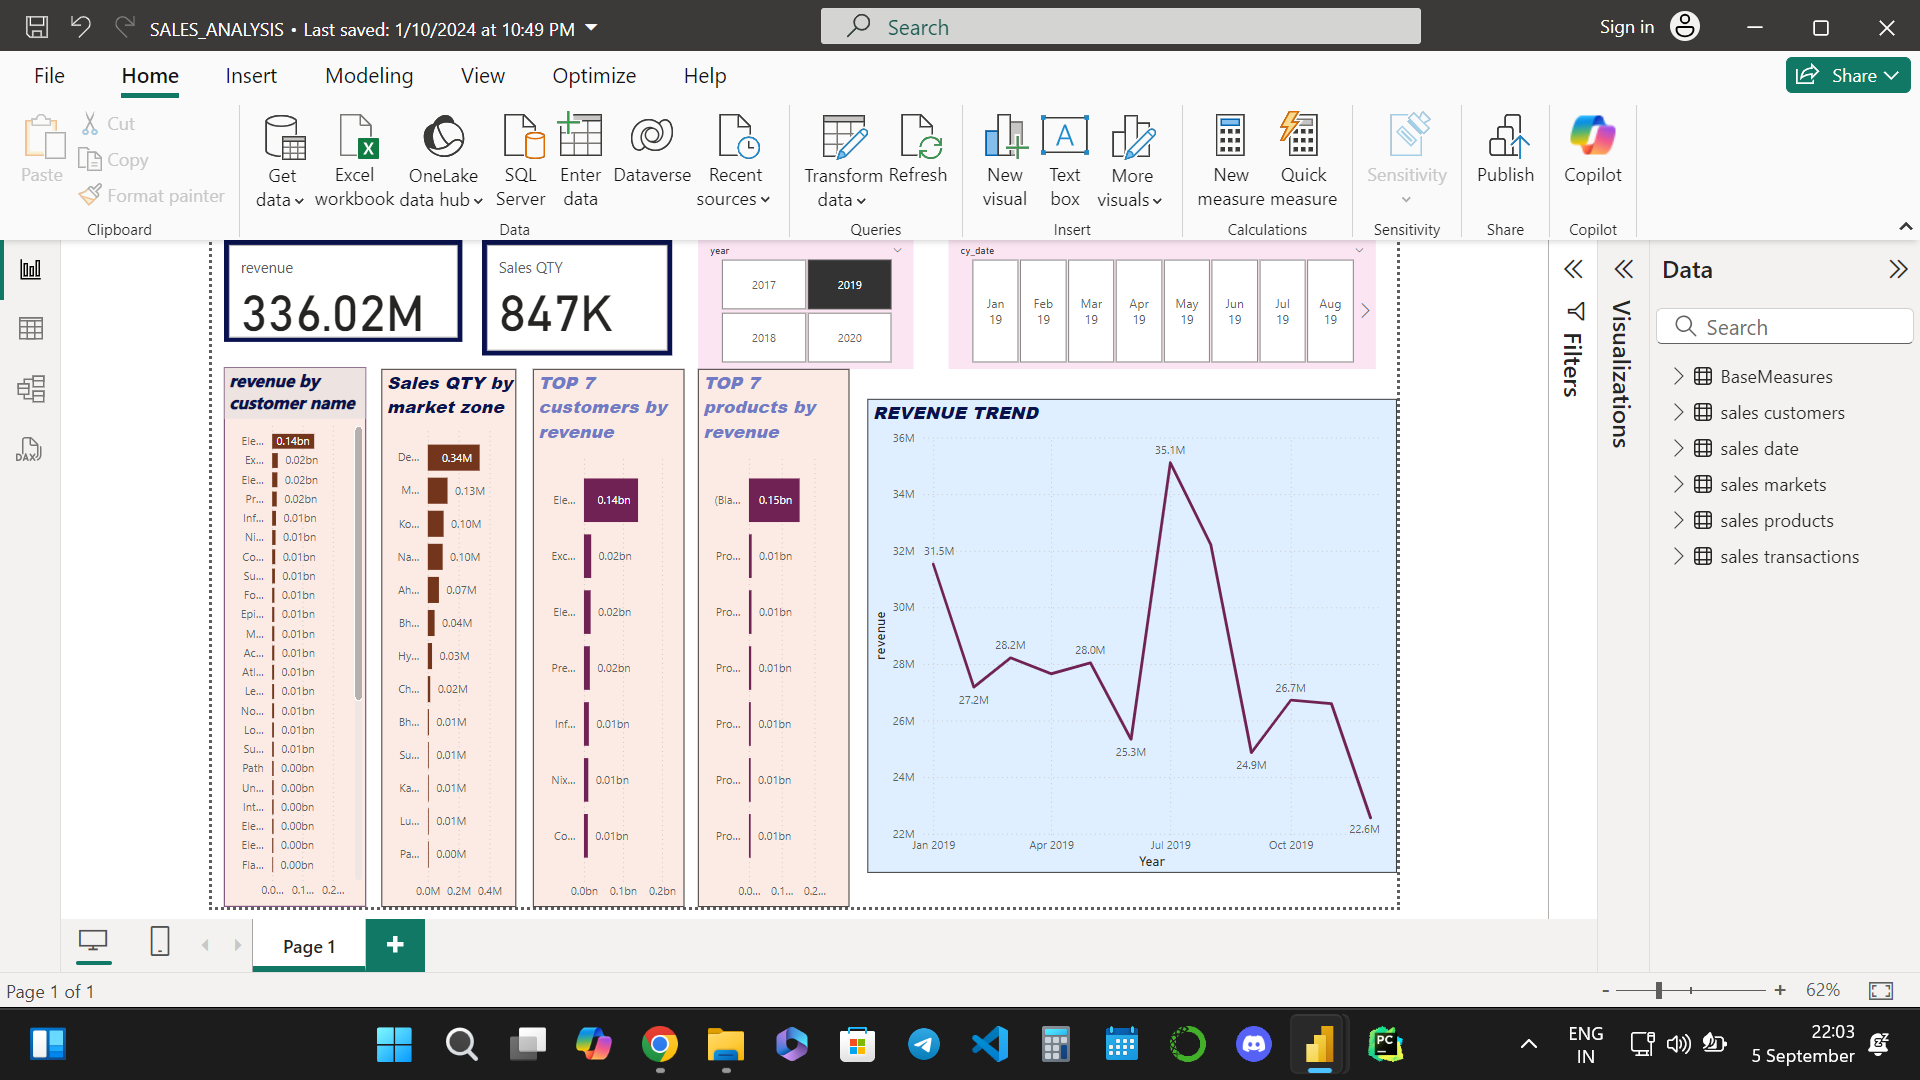

This screenshot's page, from the dashboard's own definition file:
{"tool":"powerbi","page":{"name":"Page 1","canvas":[1280,720],"ordinal":0},"visuals":[{"type":"cardVisual","fields":{"Data":["BaseMeasures.revenue"]},"box":[12.9,0,257.3,110],"z":0},{"type":"cardVisual","fields":{"Data":["BaseMeasures.Sales QTY"]},"box":[291.2,0,205.5,124.6],"z":1000},{"type":"barChart","title":"revenue by customer name","fields":{"Y":["BaseMeasures.revenue"],"Category":["sales customers.custmer_name"]},"box":[13.3,138.3,153.3,581.7],"z":2000},{"type":"slicer","fields":{"Values":["sales date.year"]},"box":[524.2,0,233,139.1],"z":3000},{"type":"slicer","fields":{"Values":["sales date.cy_date"]},"box":[794.4,0,461.1,139.1],"z":4000},{"type":"barChart","title":"Sales QTY by market zone","fields":{"Y":["BaseMeasures.Sales QTY"],"Category":["sales markets.markets_name"]},"box":[182.8,139.1,145.6,580.9],"z":5000},{"type":"barChart","title":"TOP 7 customers by revenue","fields":{"Y":["BaseMeasures.revenue"],"Category":["sales customers.custmer_name"]},"box":[346.2,139.1,163.4,580.9],"z":6000},{"type":"barChart","title":"TOP 7 products by revenue","fields":{"Y":["BaseMeasures.revenue"],"Category":["sales products.product_code"]},"box":[524.2,139.1,163.4,580.9],"z":7000},{"type":"lineChart","title":"REVENUE TREND","fields":{"Y":["BaseMeasures.revenue"],"Category":["sales date.cy_date.Variation.Date Hierarchy.Year","sales date.cy_date.Variation.Date Hierarchy.Quarter","sales date.cy_date.Variation.Date Hierarchy.Month","sales date.cy_date.Variation.Date Hierarchy.Day"]},"box":[707.1,171.5,571.1,511.3],"z":8000}]}

Visuals, with their boxes on the page's 1280x720 design canvas (x1, y1, x2, y2). These are canvas units, not pixel positions in the 1920x1080 screenshot, which may show the page scaled, cropped or inside an application window:
cardVisual - BaseMeasures.revenue: [13,0,270,110]
cardVisual - BaseMeasures.Sales QTY: [291,0,497,125]
"revenue by customer name" barChart: [13,138,167,720]
slicer - sales date.year: [524,0,757,139]
slicer - sales date.cy_date: [794,0,1256,139]
"Sales QTY by market zone" barChart: [183,139,328,720]
"TOP 7 customers by revenue" barChart: [346,139,510,720]
"TOP 7 products by revenue" barChart: [524,139,688,720]
"REVENUE TREND" lineChart: [707,172,1278,683]
